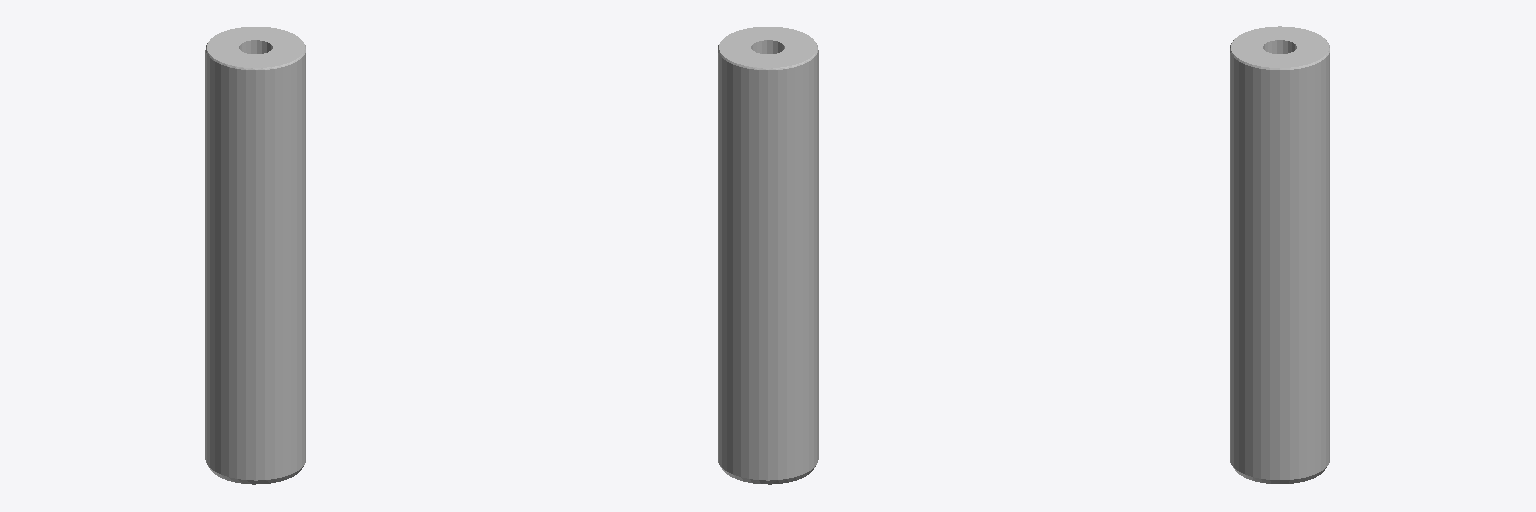
File: 74. Ось блока заднего хода.obj
3 views of the same model, side by side, from view 1: azimuth 30°, elevation 25°; view 2: azimuth 150°, elevation 25°; view 3: azimuth 270°, elevation 25° (orthographic).
Parts seen in each view (by area): view 1: Твердое тело1; view 2: Твердое тело1; view 3: Твердое тело1.
Part boxes in pixels (left/top/right/bottom): Твердое тело1: left=205, top=27, right=305, bottom=484; Твердое тело1: left=718, top=27, right=818, bottom=484; Твердое тело1: left=1230, top=26, right=1329, bottom=483.
Size of the model in its own units: 24.94 by 114 by 24.97.